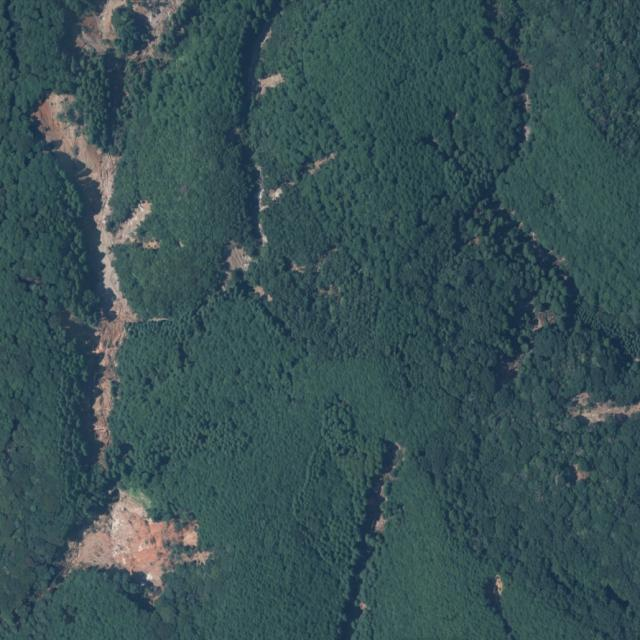landslide: (32, 92, 159, 463), (63, 492, 208, 588), (75, 0, 181, 61), (572, 393, 640, 424)
